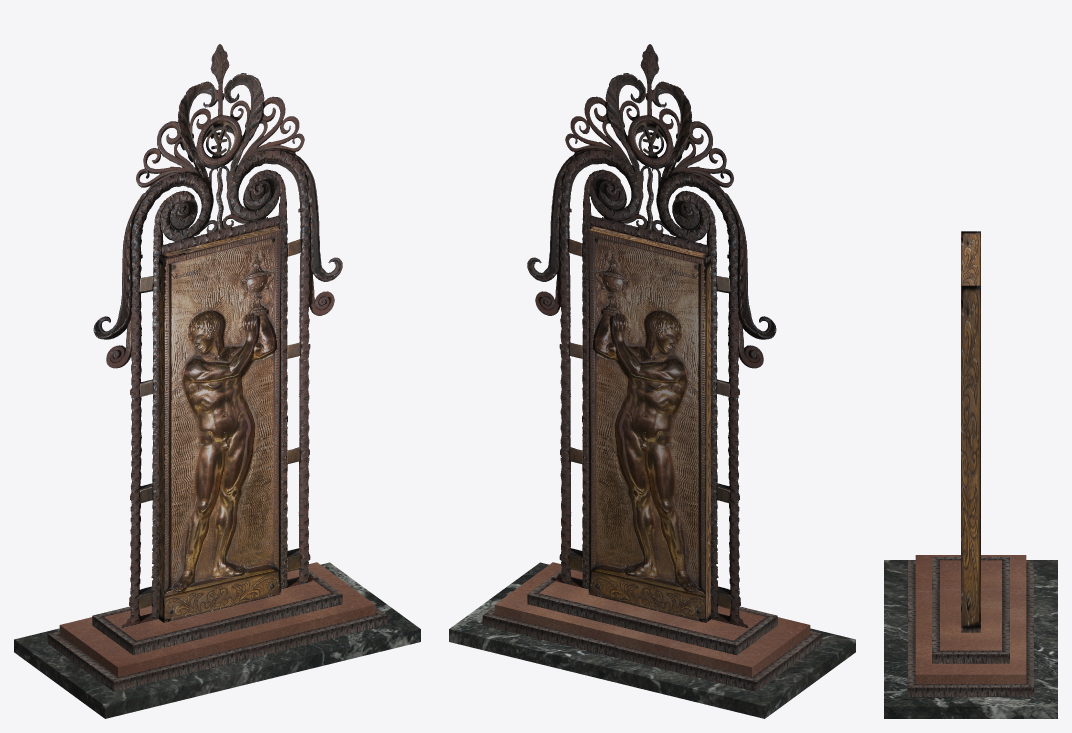
Rendered from trofeoMancomunado1933.FBX.
3 views of the same model, side by side, from view 1: azimuth 30°, elevation 25°; view 2: azimuth 150°, elevation 25°; view 3: azimuth 270°, elevation 25° (orthographic). The views are drawn at different scales.
Parts seen in each view (by area): view 1: trofeoMancomunado1933; view 2: trofeoMancomunado1933; view 3: trofeoMancomunado1933.
Boxes of the visible parts, x1,y1,x2,y2 form: trofeoMancomunado1933: (14, 44, 420, 718); trofeoMancomunado1933: (449, 44, 855, 718); trofeoMancomunado1933: (884, 231, 1057, 718).
Bounding box in the file's own units: 51.61 × 94.09 × 25.81.
